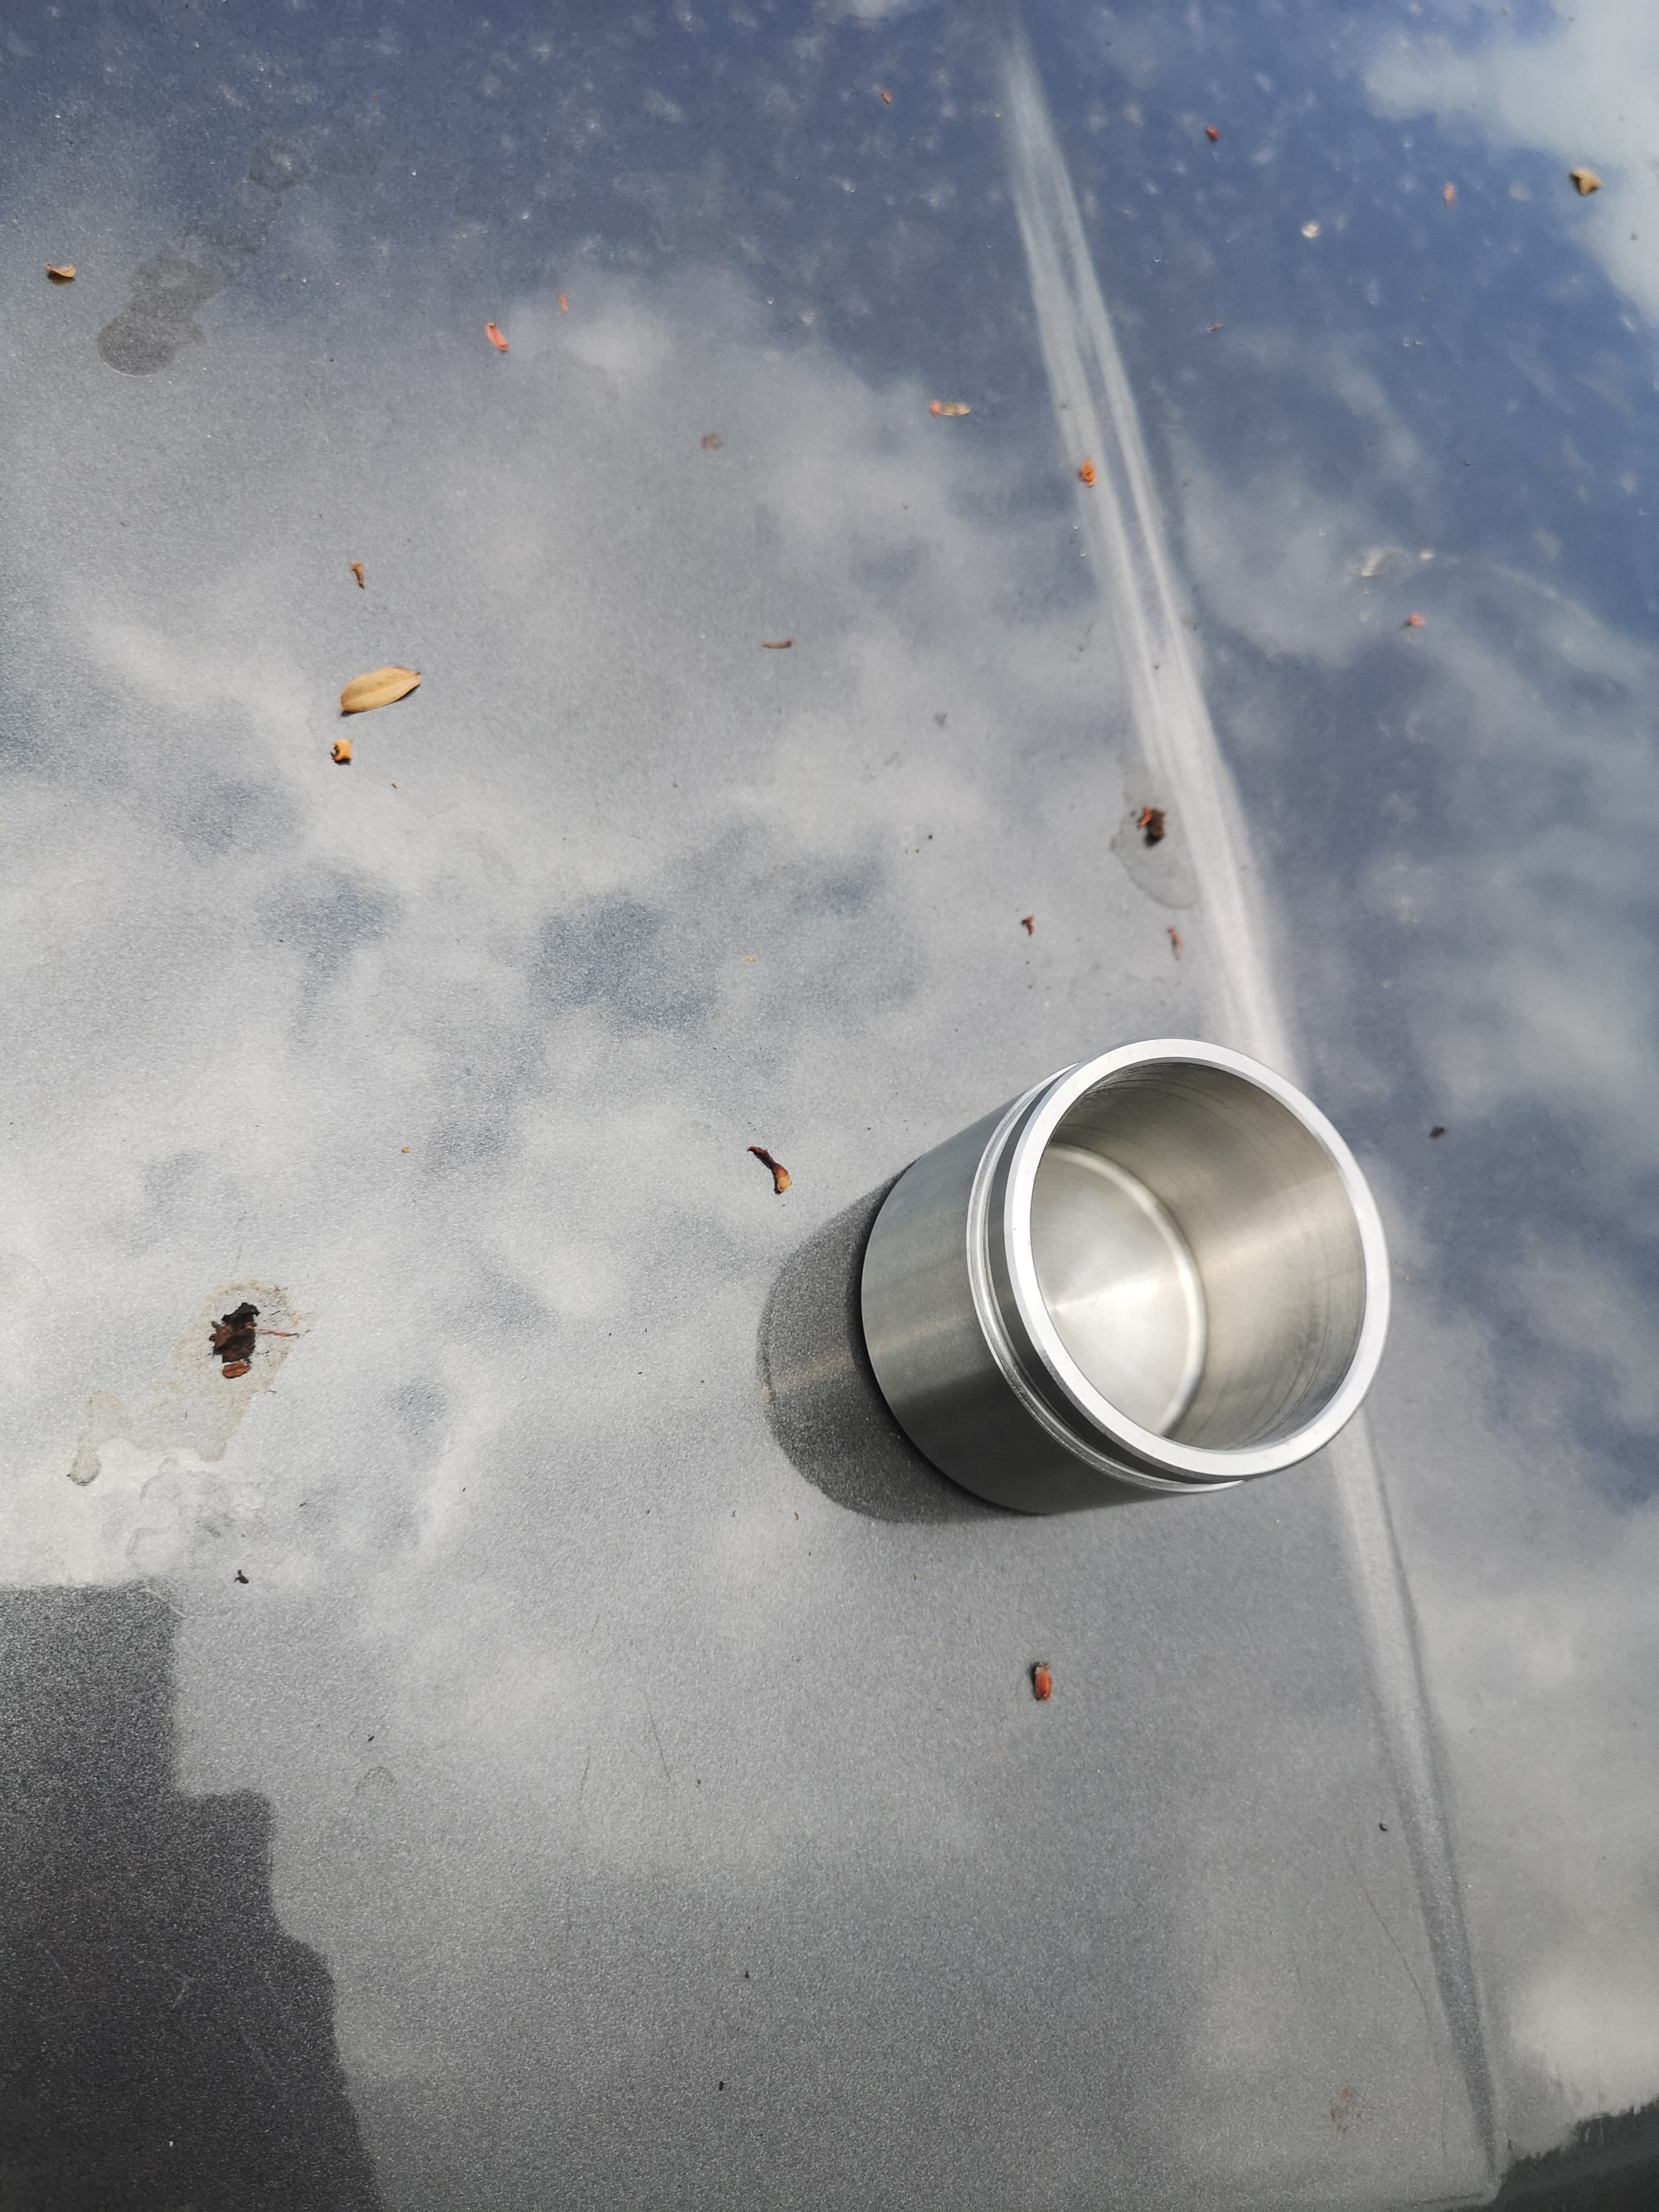ลูกสูบดิสเบรค: (800, 1005, 1406, 1611)
